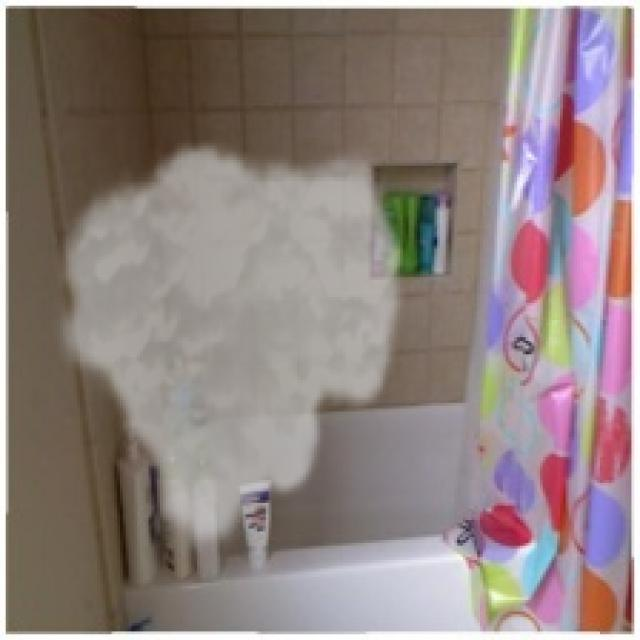smoke: (49, 137, 412, 554)
